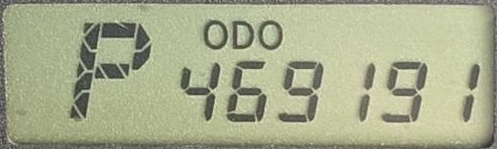1: (353, 61, 376, 122), (459, 63, 481, 124)
4: (179, 61, 221, 123)
6: (225, 60, 268, 123)
9: (379, 59, 428, 124), (275, 59, 323, 122)
X: (65, 20, 153, 124), (257, 20, 283, 51), (203, 19, 228, 50), (231, 20, 254, 49)
